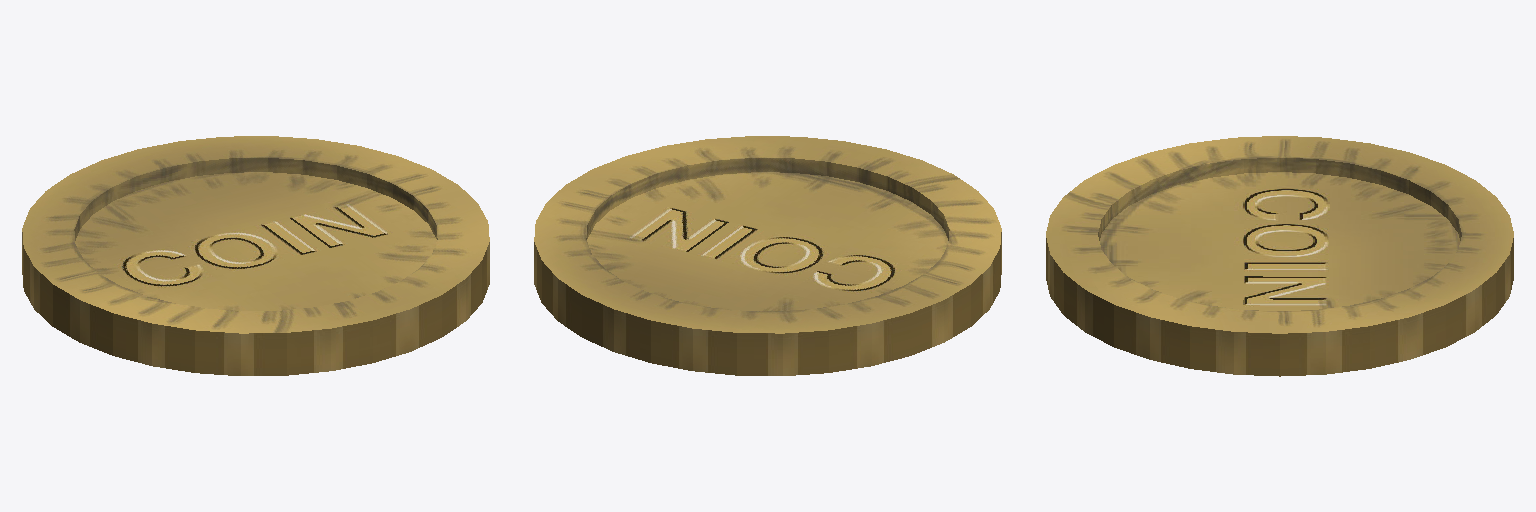
The picture shows the model from 3 angles: view 1: azimuth 30°, elevation 25°; view 2: azimuth 150°, elevation 25°; view 3: azimuth 270°, elevation 25°; orthographic projection.
Parts seen in each view (by area): view 1: Cylinder; view 2: Cylinder; view 3: Cylinder.
Boxes of the visible parts, <box> form: Cylinder: <box>22,136,489,375</box>; Cylinder: <box>534,136,1001,375</box>; Cylinder: <box>1046,136,1513,376</box>.
Size of the model in its own units: 5.95 by 0.6029 by 5.95.
1 materials, 1 textured.